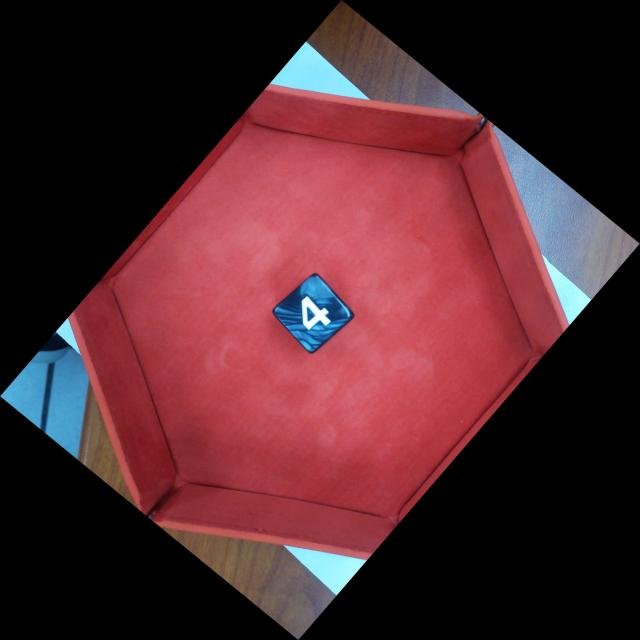dice: (271, 272, 355, 356)
